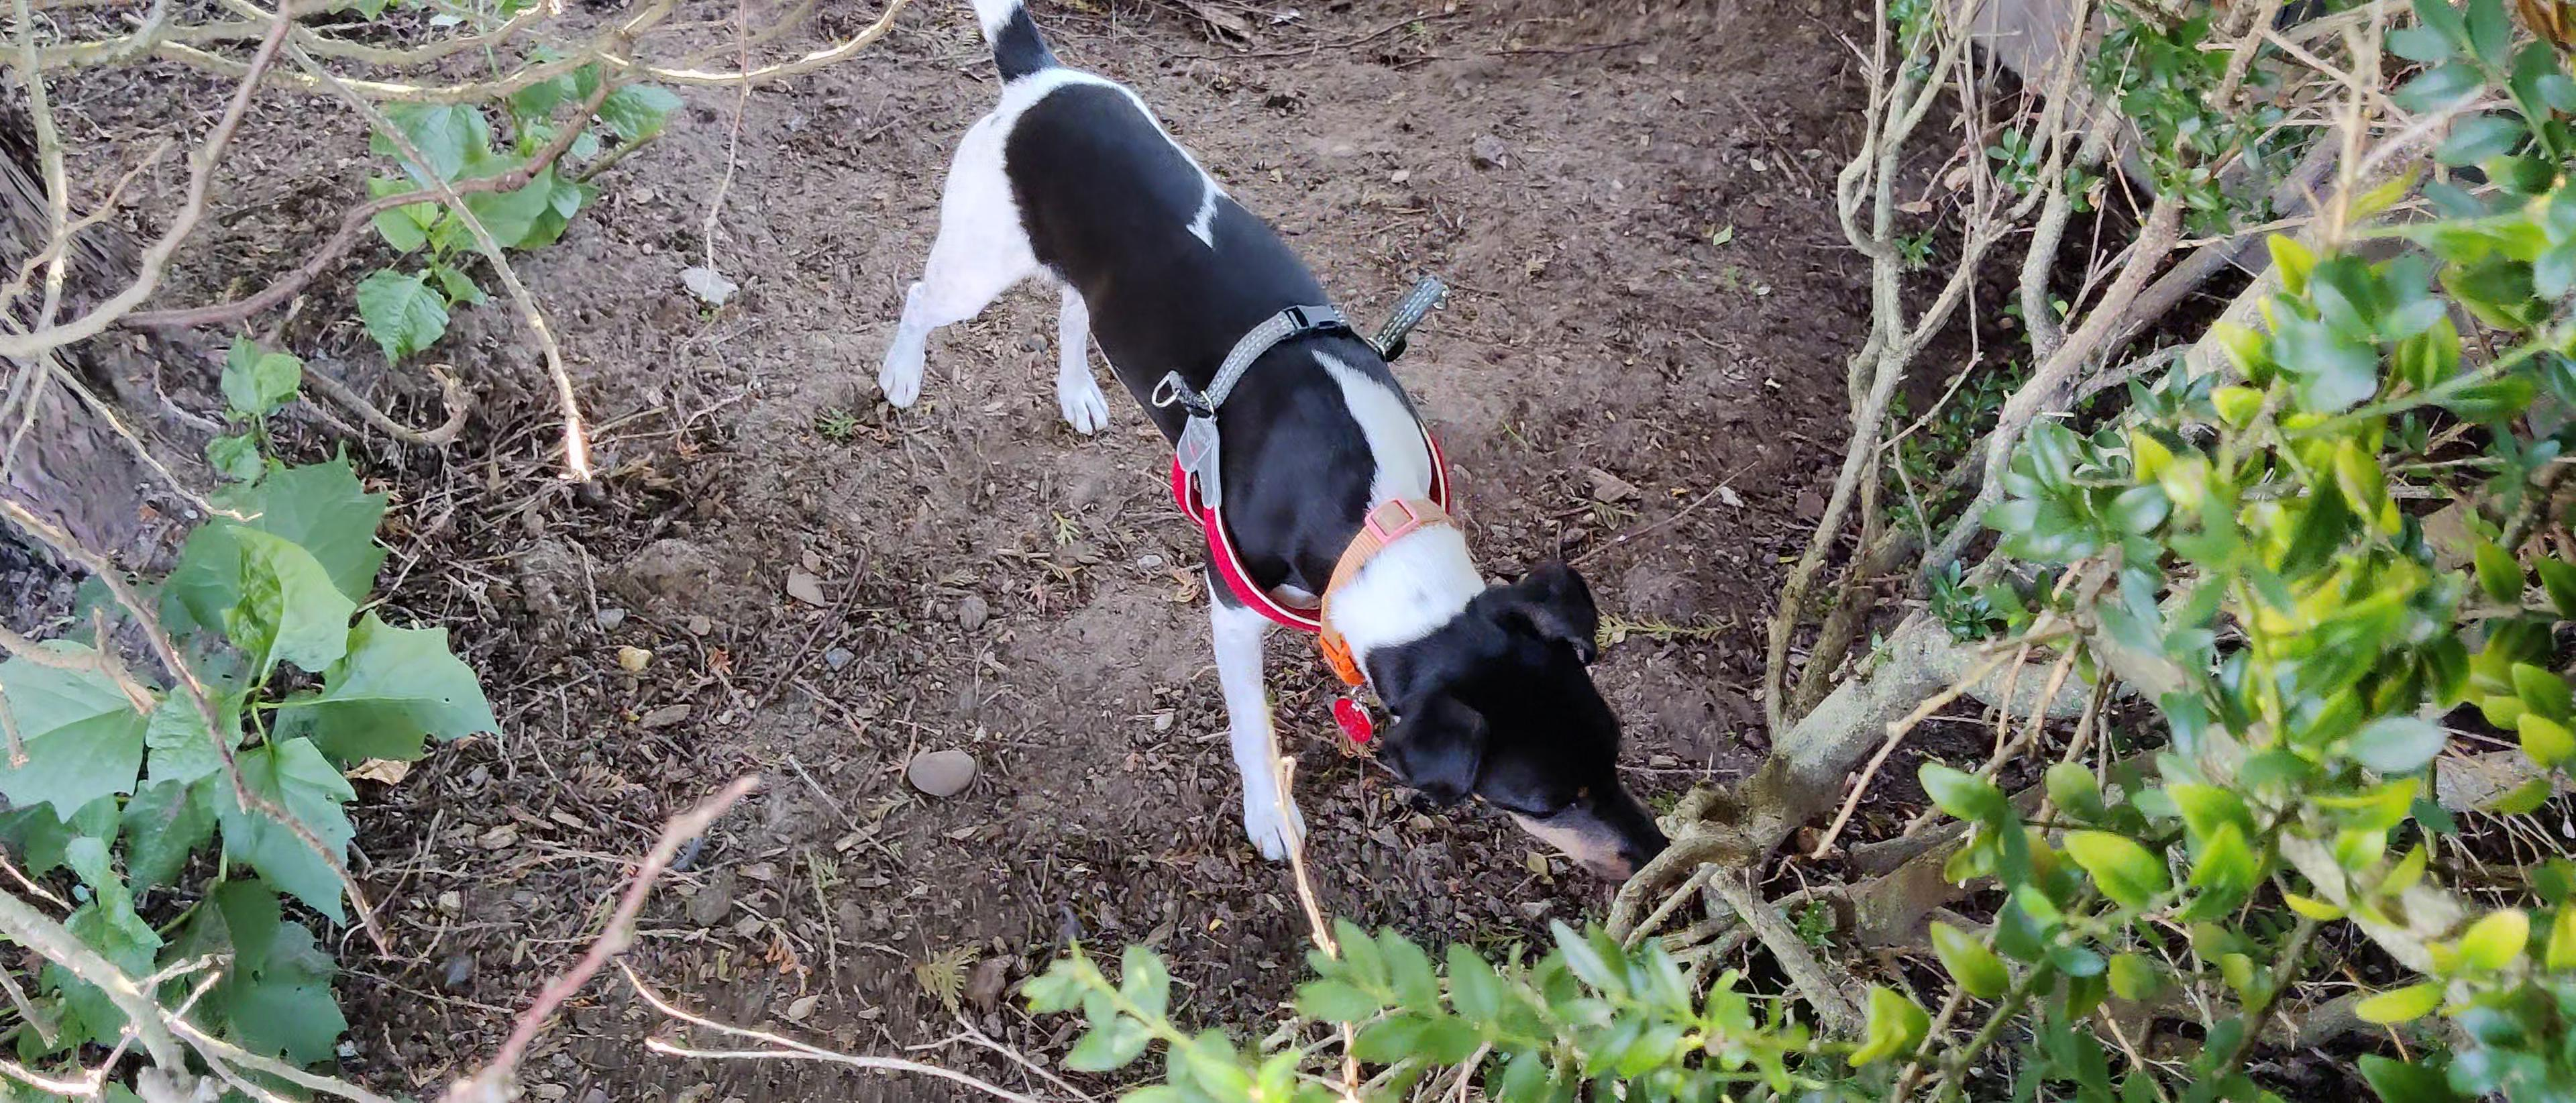Dog: (861, 0, 1709, 888)
